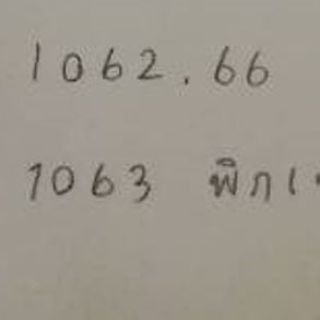.: (181, 75, 192, 88)
0: (50, 164, 76, 197), (59, 51, 85, 83)
1: (27, 160, 43, 202), (31, 38, 42, 82)
2: (136, 48, 166, 81)
3: (127, 161, 153, 206)
6: (211, 43, 237, 87), (89, 162, 115, 201), (245, 50, 271, 88), (100, 46, 124, 83)
